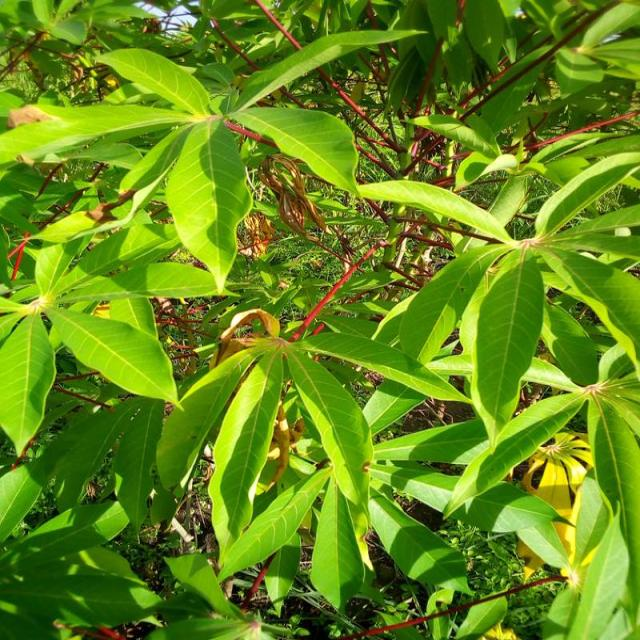cassava leaf: (1, 2, 638, 637), (164, 116, 253, 294), (469, 249, 545, 452)
